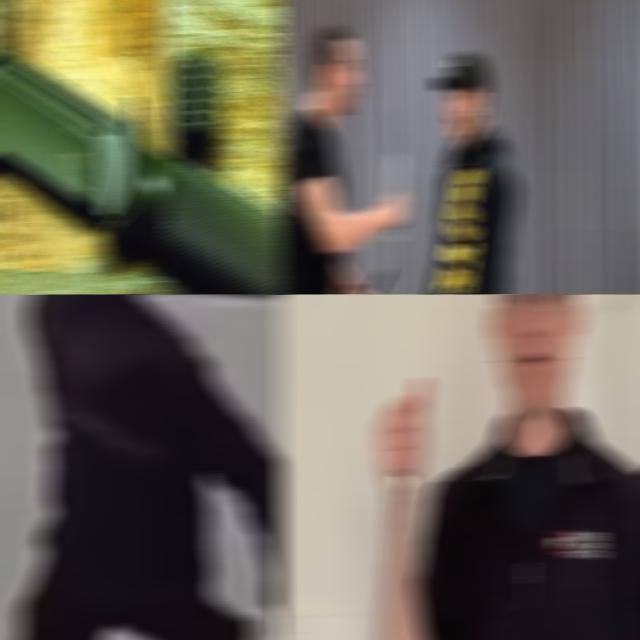Knife_Handle: (376, 375, 430, 640), (378, 152, 410, 241), (347, 265, 393, 294), (344, 276, 393, 294)
